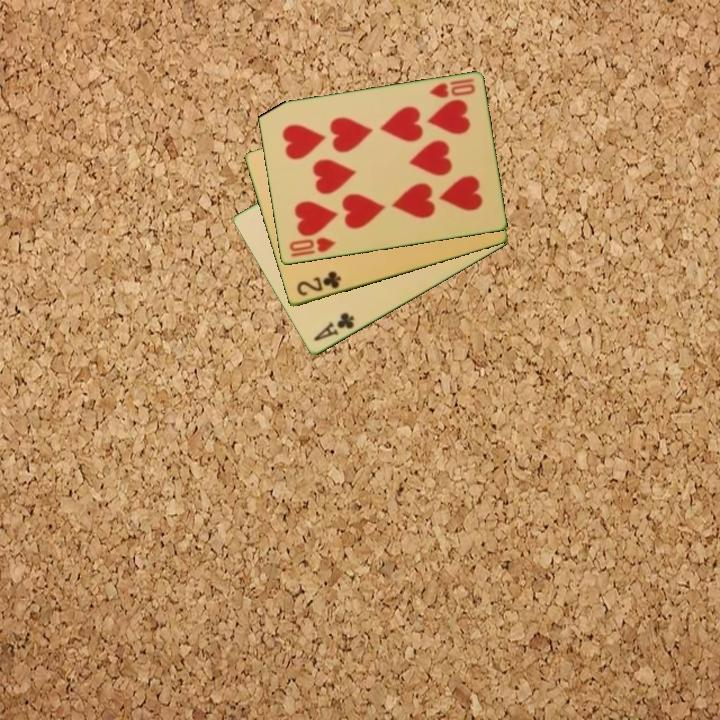10h: (286, 234, 339, 260), (426, 75, 478, 101)
2c: (293, 268, 344, 299)
Ac: (310, 309, 357, 344)
